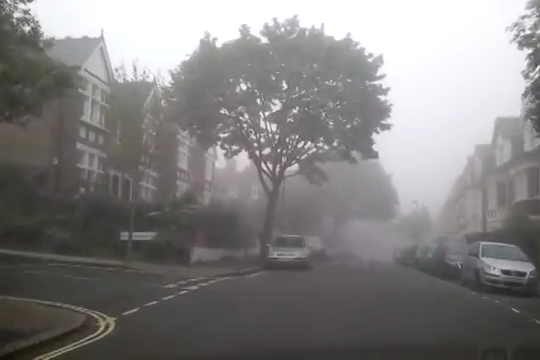car: (461, 237, 537, 296), (428, 238, 474, 282), (264, 231, 312, 270), (408, 240, 445, 275), (292, 234, 327, 261)
